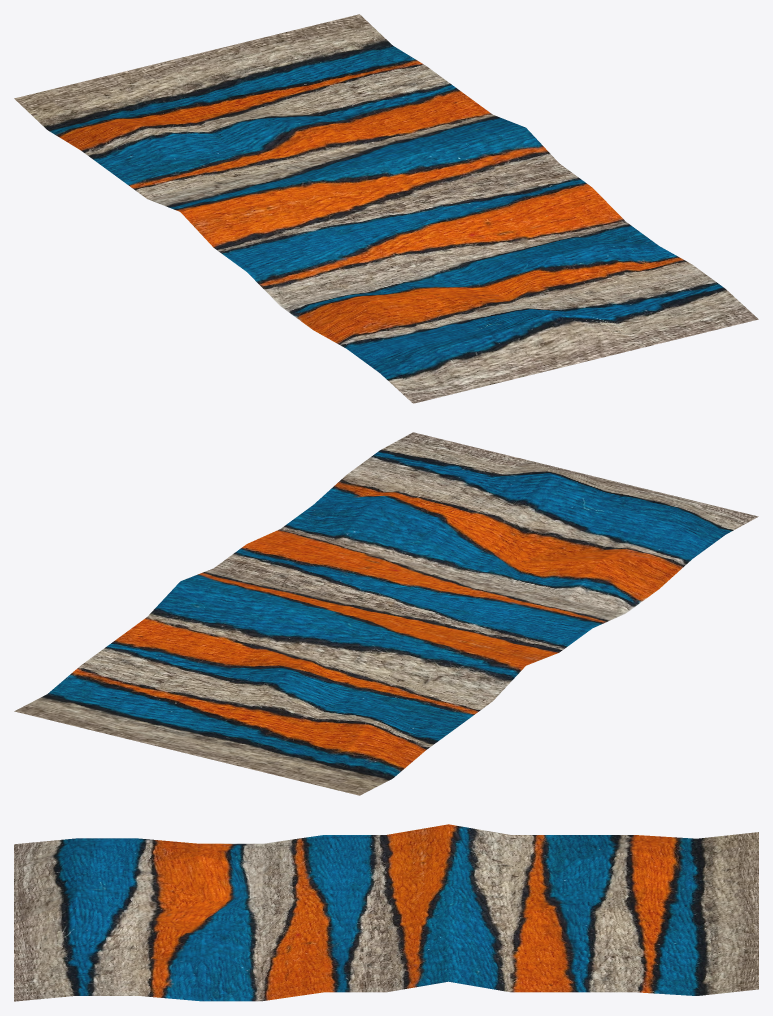
The model's file is mota5.glb.
The picture shows the model from 3 angles, top to bottom: view 1: azimuth 30°, elevation 25°; view 2: azimuth 150°, elevation 25°; view 3: azimuth 270°, elevation 25°; orthographic projection. The views are drawn at different scales.
Parts seen in each view (by area): view 1: Cube.006; view 2: Cube.006; view 3: Cube.006.
Boxes of the visible parts, x1=… form: Cube.006: x1=14, y1=14, x2=758, y2=403; Cube.006: x1=14, y1=432, x2=758, y2=795; Cube.006: x1=14, y1=824, x2=758, y2=1001.
Bounding box in the file's own units: 0.49 × 0.0325 × 0.98.
1 material, 1 textured.
